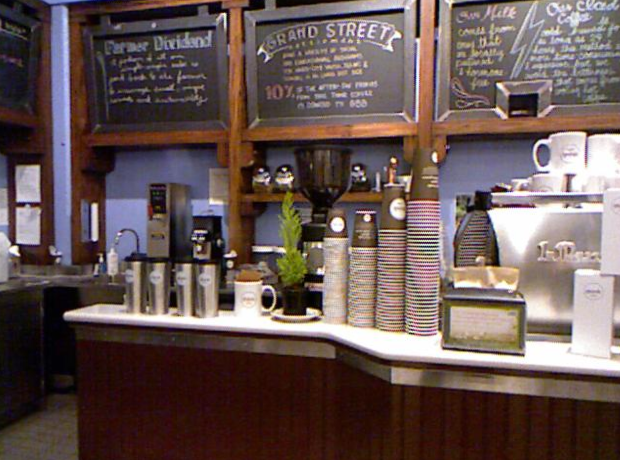table: (69, 302, 620, 454)
